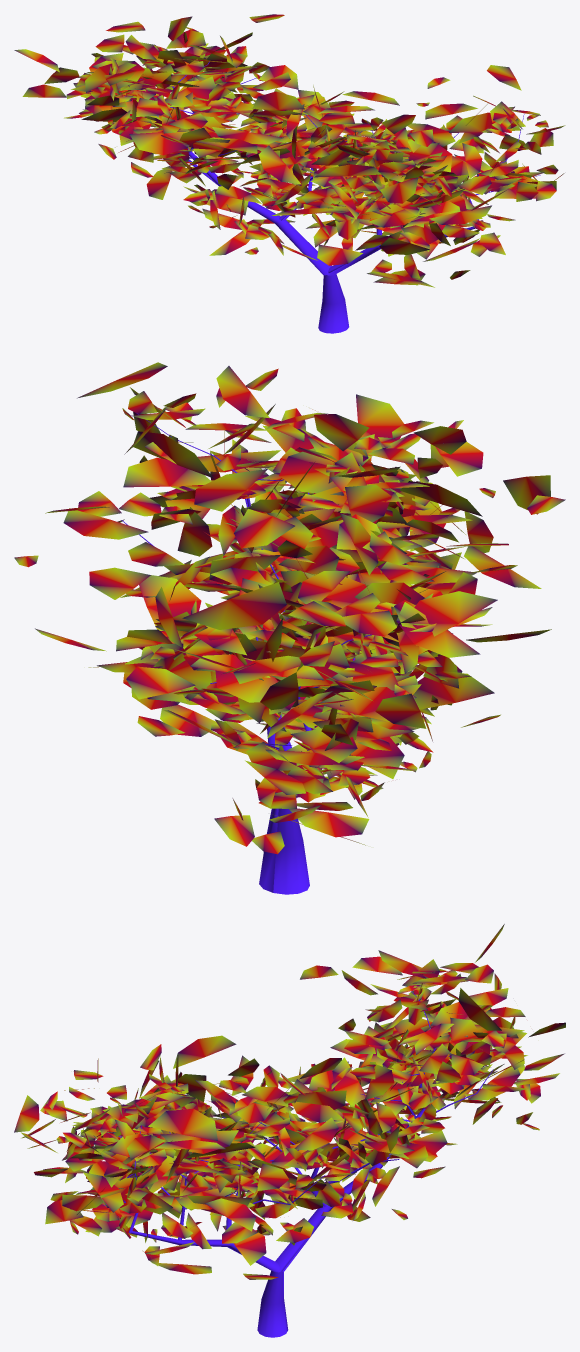
Rendered from arbre2.glb.
The picture shows the model from 3 angles, top to bottom: view 1: azimuth 30°, elevation 25°; view 2: azimuth 150°, elevation 25°; view 3: azimuth 270°, elevation 25°; orthographic projection. The views are drawn at different scales.
Parts seen in each view (by area): view 1: leaves, batch; view 2: leaves, batch; view 3: leaves, batch.
Part boxes in pixels (x1=…): leaves: x1=14, y1=14, x2=565, y2=287; batch: x1=125, y1=61, x2=540, y2=333; leaves: x1=14, y1=362, x2=565, y2=854; batch: x1=121, y1=413, x2=371, y2=894; leaves: x1=14, y1=924, x2=565, y2=1279; batch: x1=103, y1=985, x2=493, y2=1337.
Bounding box in the file's own units: 15.2 × 9.75 × 16.31.
